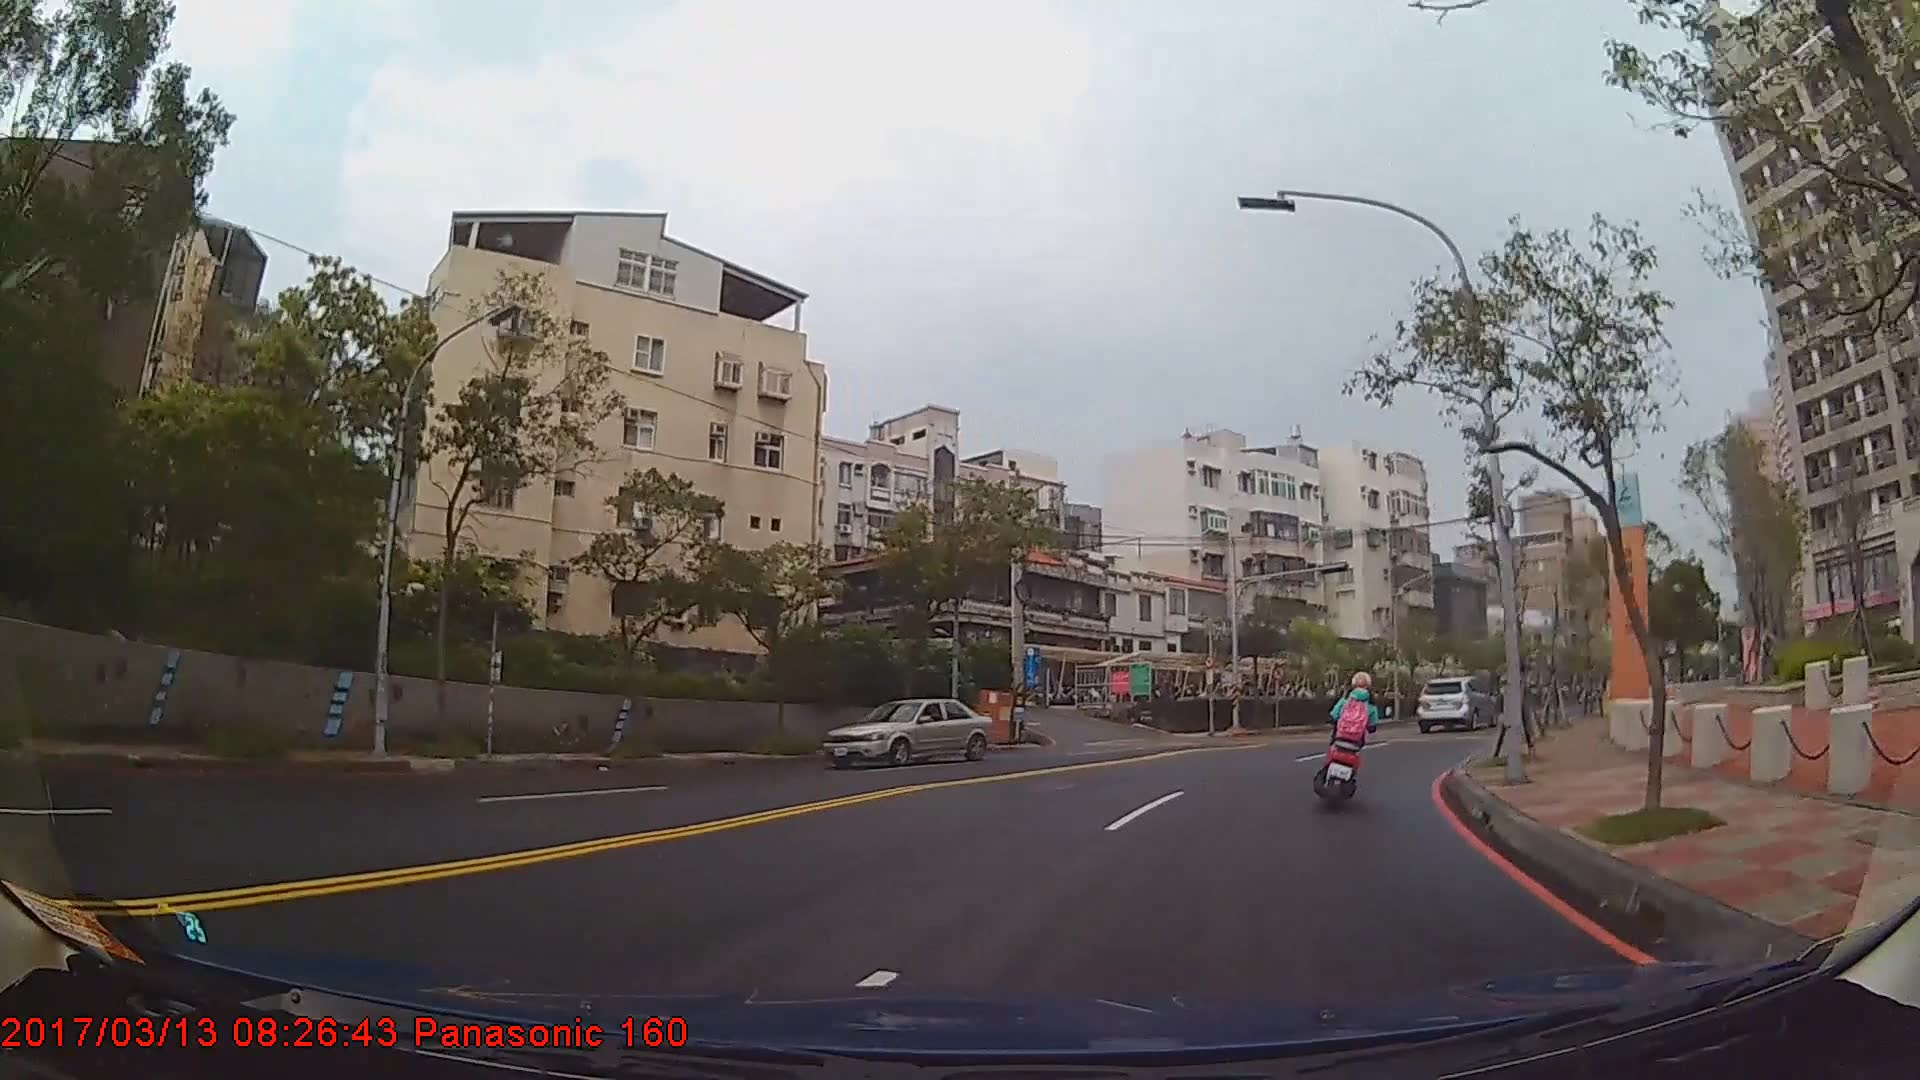rider: (1321, 672, 1382, 802)
vehicle: (819, 699, 995, 770), (1414, 675, 1496, 728)
